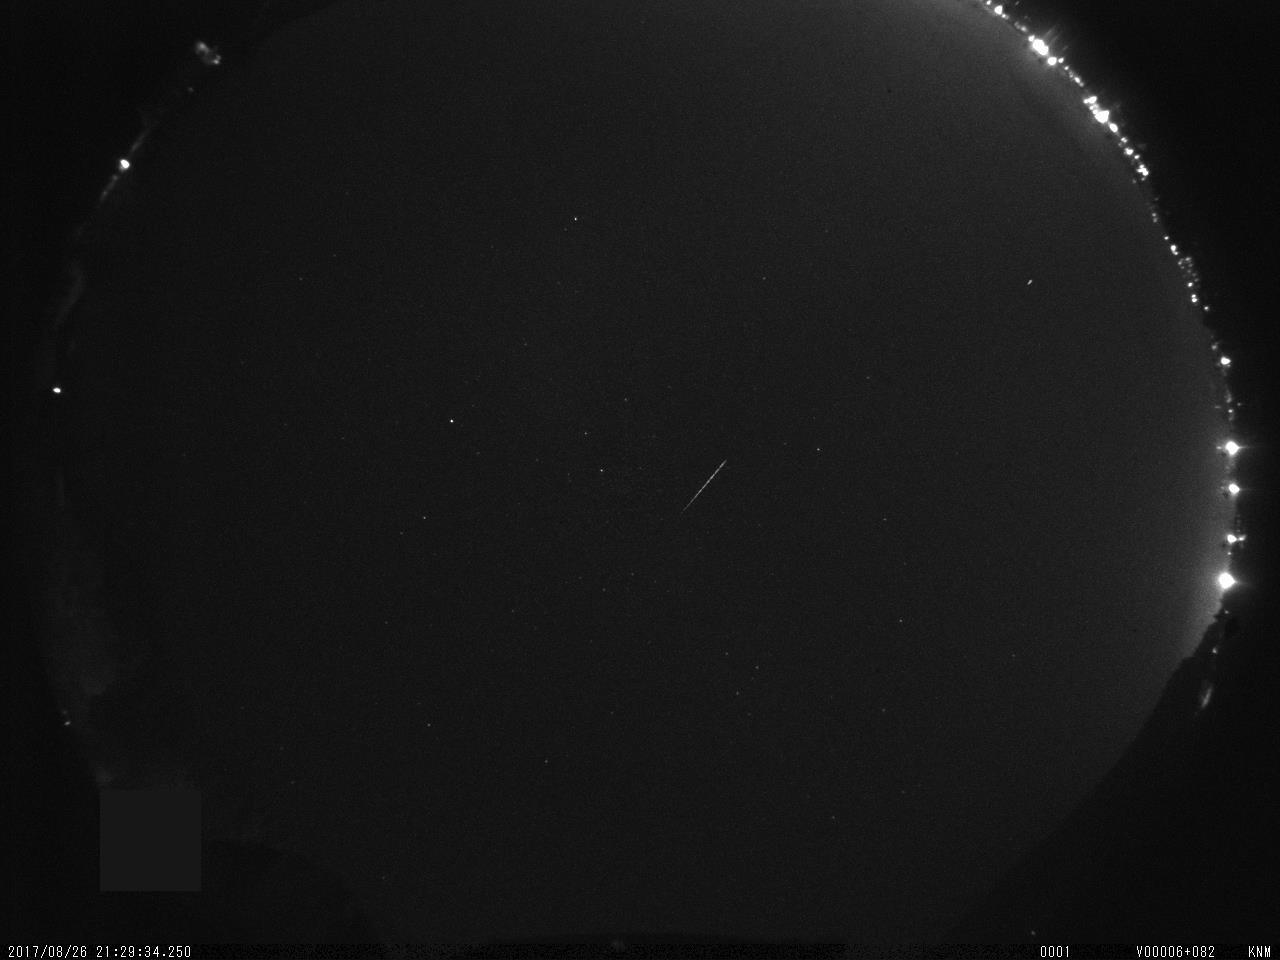meteor: (671, 440, 741, 530)
